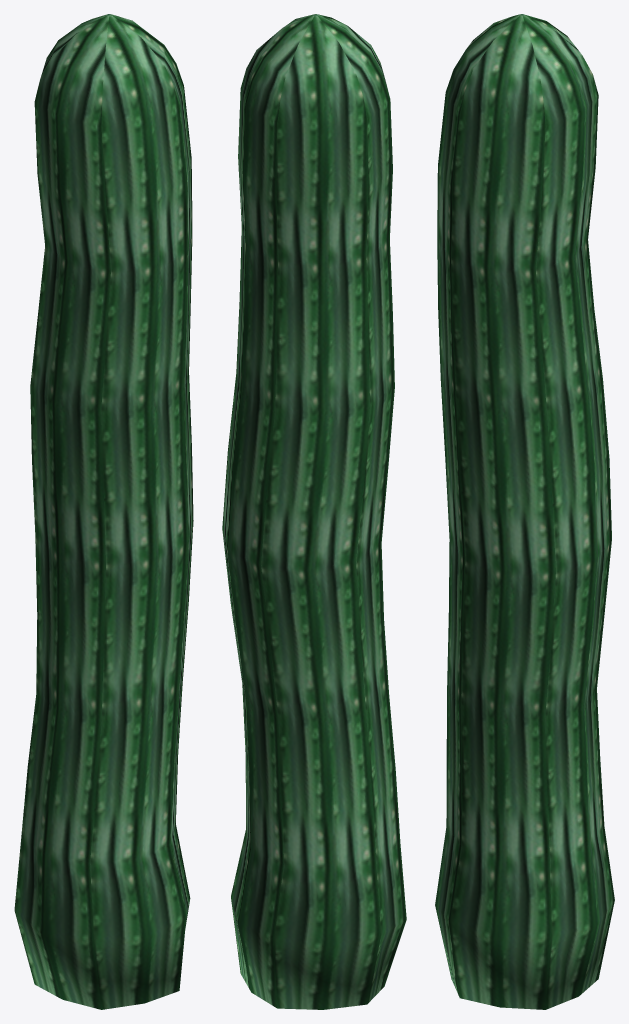
File: cactus-01.fbx
The picture shows the model from 3 angles, left to right: view 1: azimuth 30°, elevation 25°; view 2: azimuth 150°, elevation 25°; view 3: azimuth 270°, elevation 25°; orthographic projection.
Parts seen in each view (by area): view 1: Cube.081_Cube.004_Cube.081_Cube.001; view 2: Cube.081_Cube.004_Cube.081_Cube.001; view 3: Cube.081_Cube.004_Cube.081_Cube.001.
Part boxes in pixels (box(x1,y1,x2,y2)): Cube.081_Cube.004_Cube.081_Cube.001: box(14, 14, 193, 1009); Cube.081_Cube.004_Cube.081_Cube.001: box(222, 14, 406, 1009); Cube.081_Cube.004_Cube.081_Cube.001: box(435, 14, 614, 1009).
Size of the model in its own units: 0.3504 by 2.06 by 0.3489.
